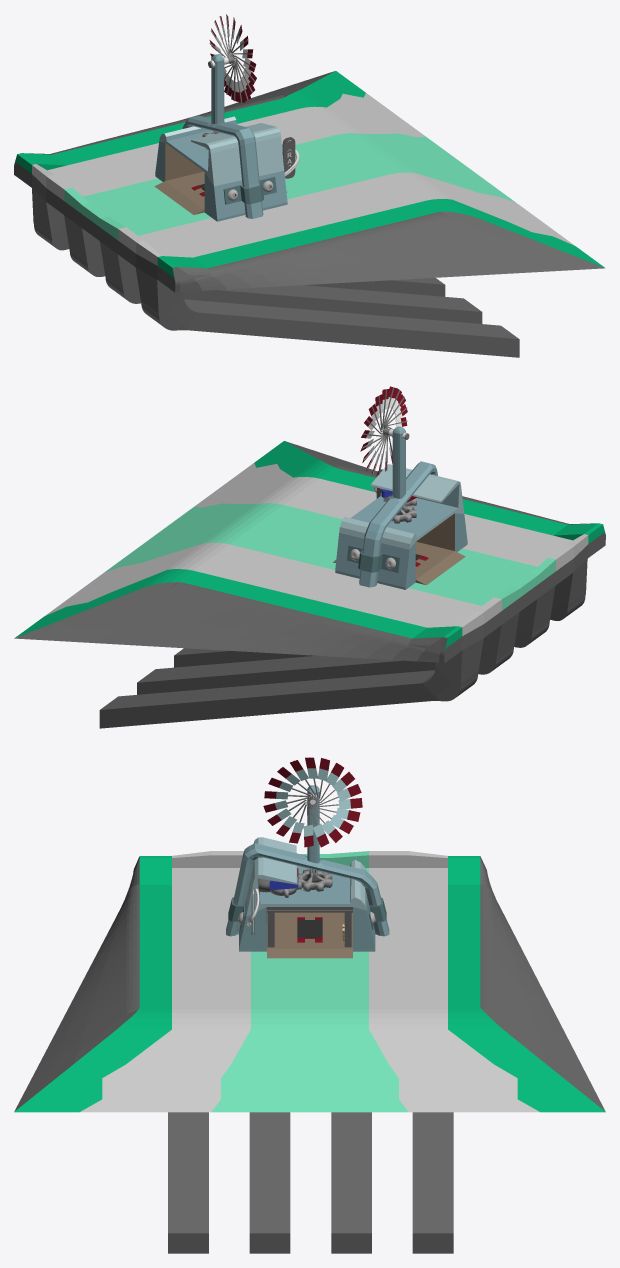
File: garage.fbx
3 renders of one model, top to bottom at view 1: azimuth 30°, elevation 25°; view 2: azimuth 150°, elevation 25°; view 3: azimuth 270°, elevation 25°, orthographic. The views are drawn at different scales.
Visible parts, largest first — view 1: ground, garage, pales, WindMillReincorcements; view 2: ground, garage, pales, WindMillReincorcements.001; view 3: ground, garage, pales.
Part boxes in pixels (x1=…): ground: x1=14, y1=71, x2=605, y2=357; garage: x1=154, y1=54, x2=287, y2=221; pales: x1=208, y1=14, x2=256, y2=102; WindMillReincorcements: x1=223, y1=176, x2=276, y2=204; ground: x1=14, y1=441, x2=605, y2=728; garage: x1=333, y1=426, x2=467, y2=589; pales: x1=360, y1=386, x2=409, y2=474; WindMillReincorcements.001: x1=347, y1=545, x2=399, y2=572; ground: x1=14, y1=851, x2=605, y2=1253; garage: x1=226, y1=785, x2=389, y2=958; pales: x1=263, y1=757, x2=362, y2=847.
Bounding box in the file's own units: 5670 × 4930 × 6984.
